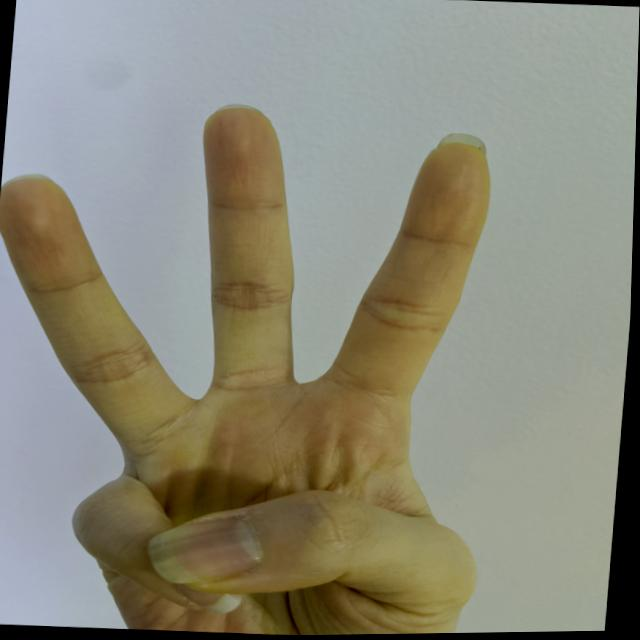W: (0, 83, 529, 639)
